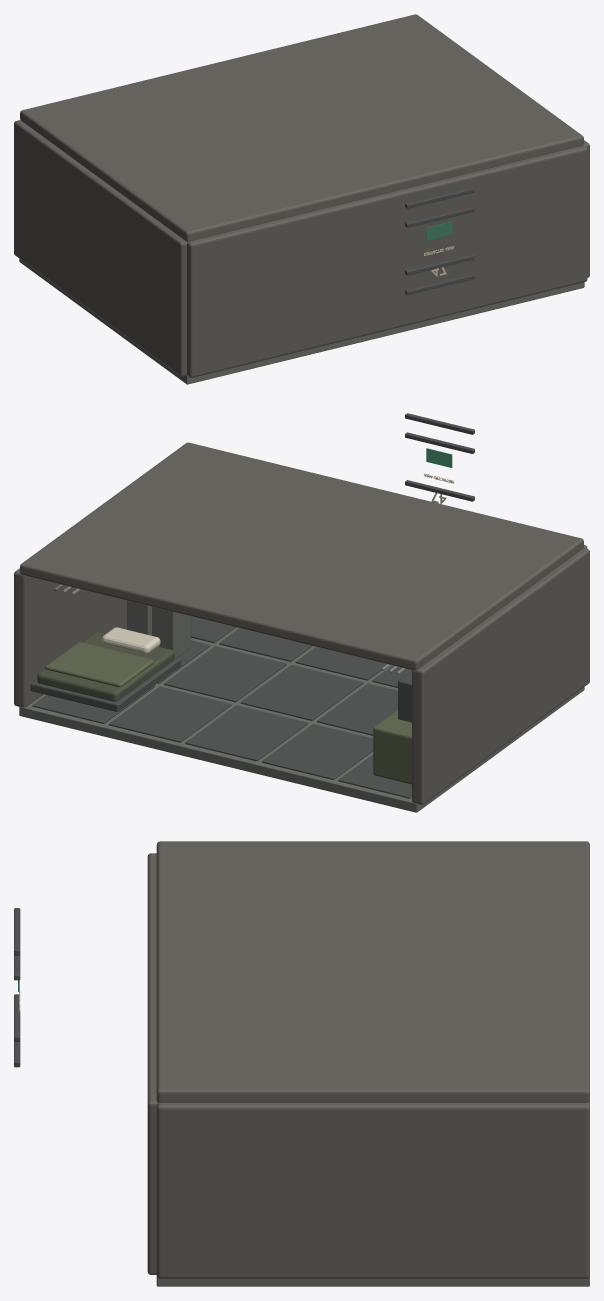
The model's file is shelter47_aaa_v2_interior.glb.
3 views of the same model, one above another, from view 1: azimuth 30°, elevation 25°; view 2: azimuth 150°, elevation 25°; view 3: azimuth 270°, elevation 25° (orthographic). The views are drawn at different scales.
Parts seen in each view (by area): view 1: Ceiling, Back, Left, Floor; view 2: Ceiling, Left, Floor, Right, FloorPlate.008, FloorPlate.007, FloorPlate.010, FloorPlate.011, FloorPlate.005, Blanket, Mattress, FloorPlate.004 (+11 smaller); view 3: Ceiling, Right, Back, Floor.
Boxes of the visible parts, bbox=[...] form: Ceiling: bbox=[20, 14, 583, 241]; Back: bbox=[187, 145, 587, 377]; Left: bbox=[14, 120, 187, 376]; Floor: bbox=[19, 259, 584, 384]; Ceiling: bbox=[20, 442, 583, 670]; Left: bbox=[412, 548, 589, 804]; Floor: bbox=[19, 627, 584, 812]; Right: bbox=[14, 568, 126, 707]; FloorPlate.008: bbox=[185, 705, 308, 761]; FloorPlate.007: bbox=[240, 665, 363, 720]; FloorPlate.010: bbox=[164, 646, 286, 702]; FloorPlate.011: bbox=[109, 686, 231, 742]; FloorPlate.005: bbox=[262, 724, 373, 779]; Blanket: bbox=[45, 642, 154, 687]; Mattress: bbox=[37, 631, 174, 701]; FloorPlate.004: bbox=[317, 683, 397, 735]; Ceiling: bbox=[156, 841, 589, 1102]; Right: bbox=[156, 1102, 589, 1278]; Back: bbox=[147, 853, 157, 1274]; Floor: bbox=[156, 1101, 589, 1286].
Bounding box in the file's own units: 10.72 × 4.5 × 10.1.
